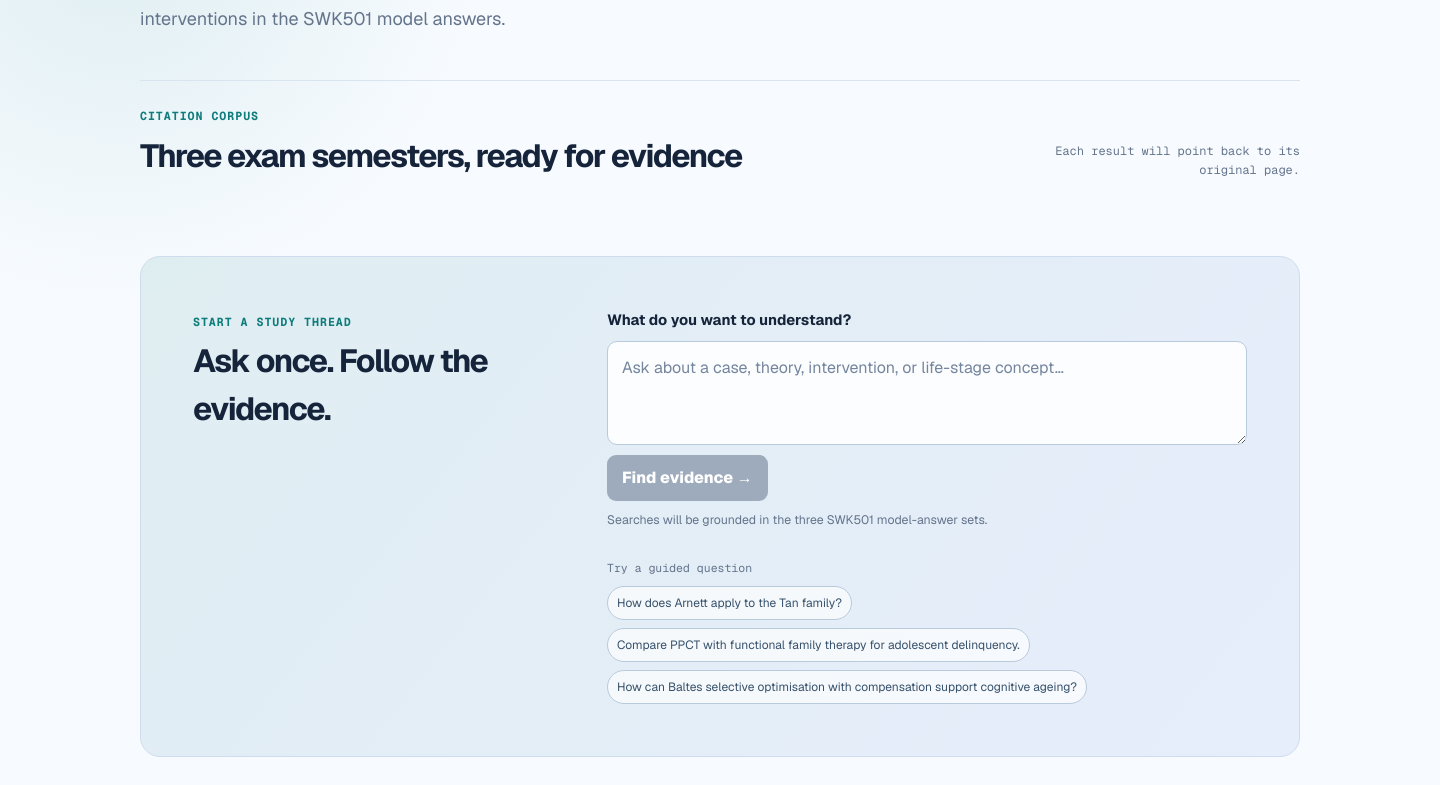
Test: maps a malformed stream to a safe provider error
This screenshot has width=1440, height=785.
(page scrolled)
Type "Explain Arnett" into the text box at [927, 393], box [607,341,1247,445]
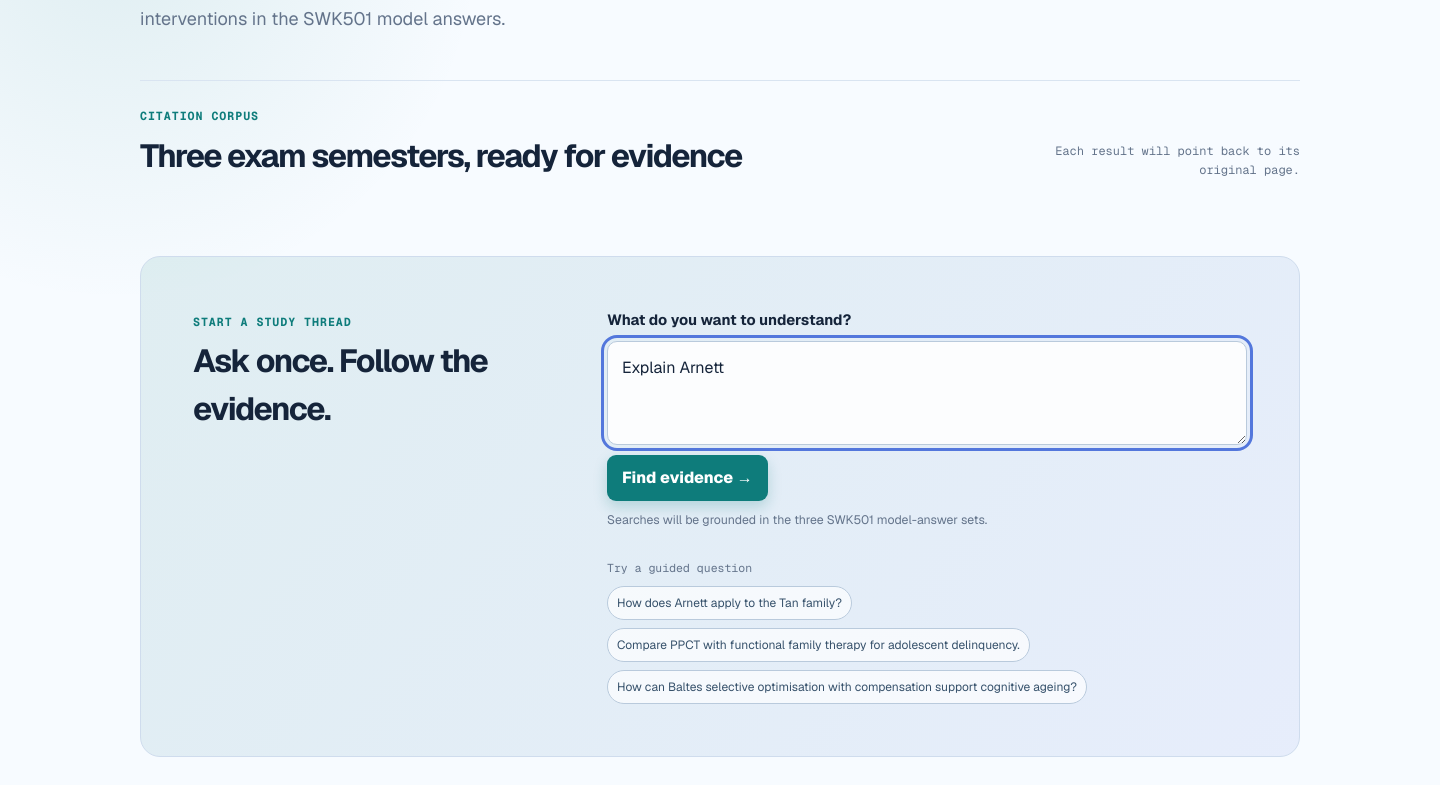
Click the button "Find evidence →" at [687, 478], box [607,455,768,501]
(page scrolled)
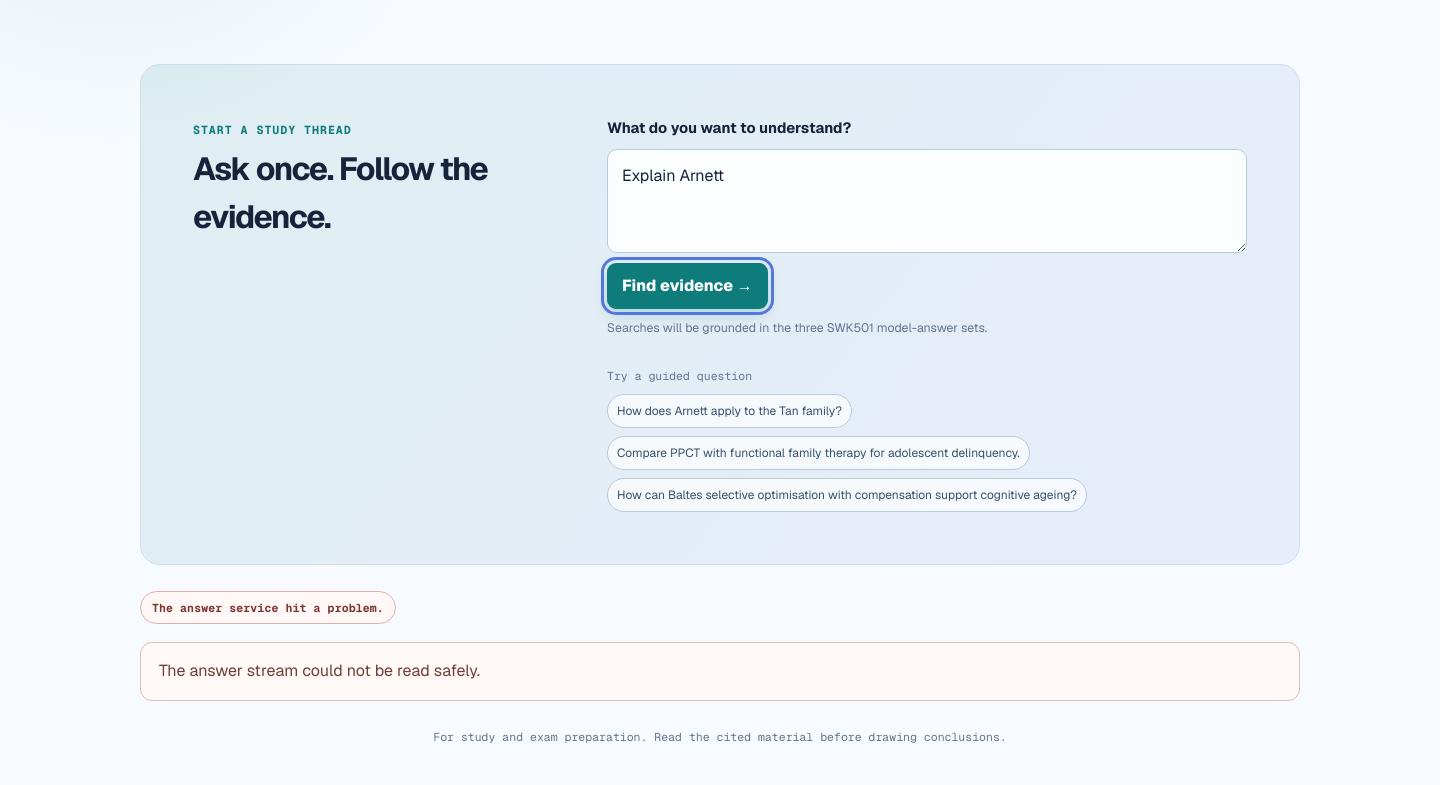
Expected: the text "The answer stream could not be read safely." is shown, [159,659,480,684]
Expected: the message with test id "workspace-status" reads "The answer service hit a problem.", [152,600,384,614]
